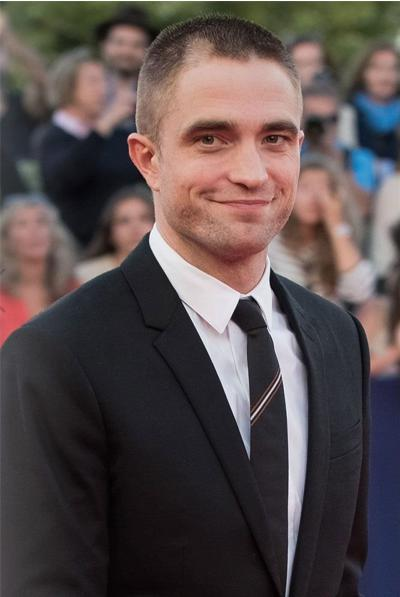Sober: (150, 50, 293, 236)
